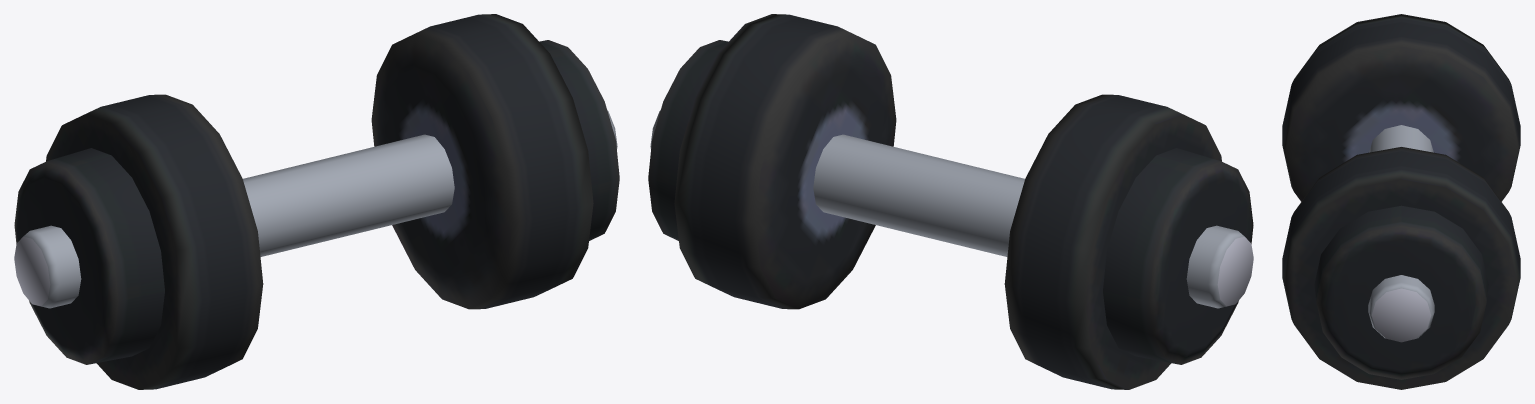
Rendered from ToolDumbbell.glb.
3 views of the same model, side by side, from view 1: azimuth 30°, elevation 25°; view 2: azimuth 150°, elevation 25°; view 3: azimuth 270°, elevation 25° (orthographic). The views are drawn at different scales.
Parts seen in each view (by area): view 1: Handle__mTool; view 2: Handle__mTool; view 3: Handle__mTool.
Part boxes in pixels (left/top/right/bottom): Handle__mTool: left=14, top=14, right=619, bottom=389; Handle__mTool: left=648, top=14, right=1253, bottom=389; Handle__mTool: left=1282, top=14, right=1520, bottom=389.
Size of the model in its own units: 5.21 by 2.3 by 2.3.
Materials: 1 (1 with a texture image).
